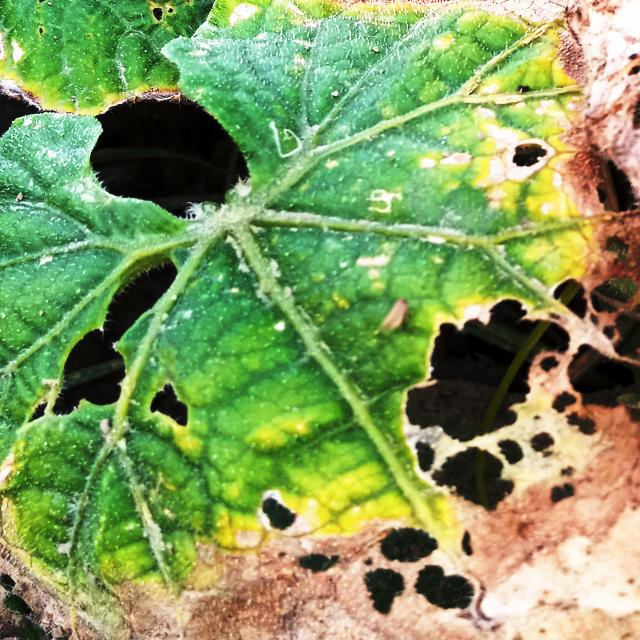Anthracnose: (255, 129, 639, 628), (17, 251, 195, 434), (71, 80, 263, 224)
